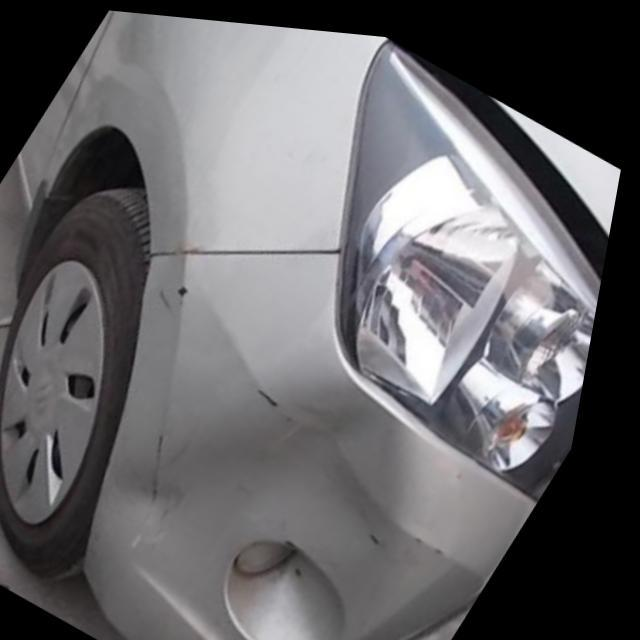dent: (239, 379, 436, 549)
